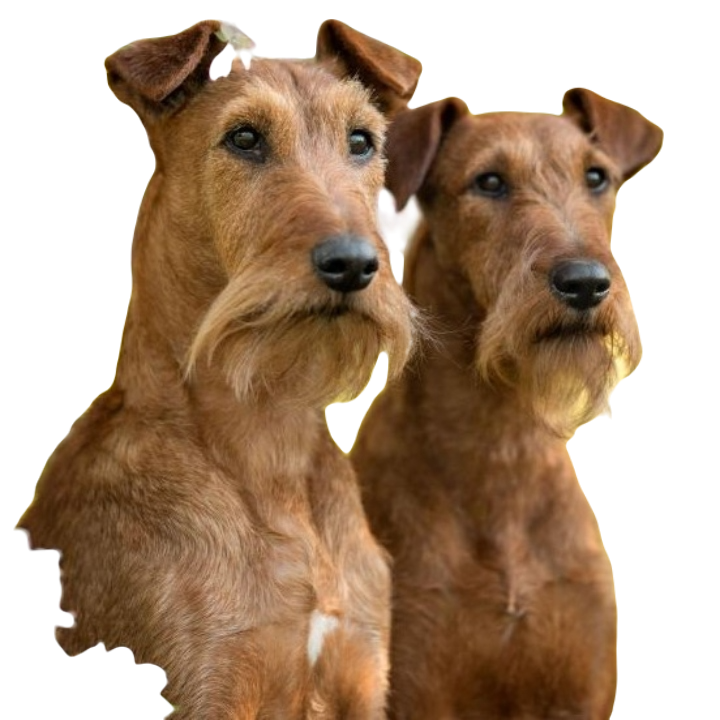Dog: (14, 6, 399, 719), (403, 93, 669, 716)
